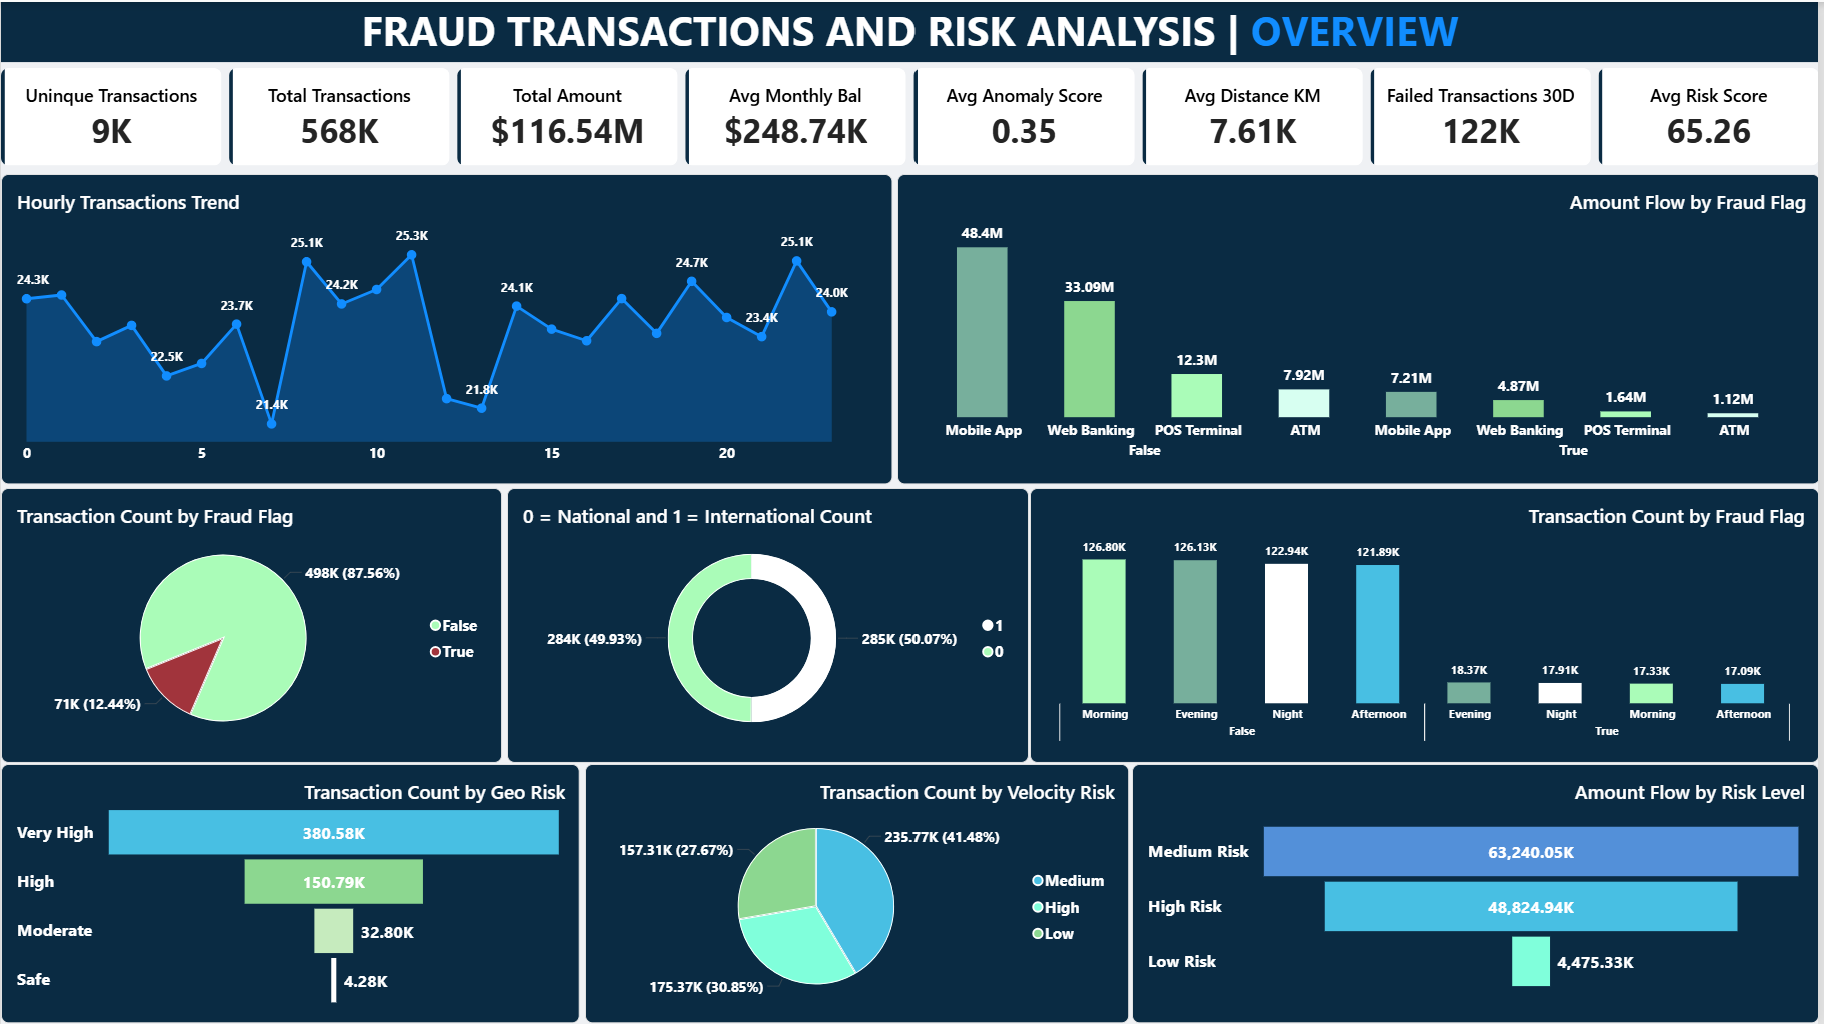

This screenshot's page, from the dashboard's own definition file:
{"tool":"powerbi","page":{"name":"Page 1","canvas":[1920,1080],"ordinal":0},"visuals":[{"type":"textbox","box":[0,0,1921,63.3],"z":0},{"type":"cardVisual","fields":{"Data":["transaction_data.Uninque Transactions","transaction_data.Total Transactions","transaction_data.Total Amount","transaction_data.Avg Monthly Bal","transaction_data.Avg Anomaly Score","transaction_data.Avg Distance KM","transaction_data.Failed Transactions 30D","transaction_data.Avg Risk Score"]},"box":[0,70.3,1921,103.1],"z":1000},{"type":"lineChart","title":"Hourly Transactions Trend","fields":{"Category":["transaction_data.transaction_time_hour"],"Y":["transaction_data.Total Transactions"]},"box":[0,182.7,941.8,328],"z":2000},{"type":"columnChart","title":"Amount Flow by Fraud Flag","fields":{"Y":["transaction_data.Total Amount"],"Category":["transaction_data.fraud_flag","banking_transactions.payment_channel"]},"box":[946.5,182.7,974.6,328],"z":3000},{"type":"pieChart","title":"Transaction Count by Fraud Flag","fields":{"Category":["transaction_data.fraud_flag"],"Y":["transaction_data.Total Transactions"]},"box":[0,513.1,529.5,290.5],"z":4000},{"type":"donutChart","title":"0 = National and 1 = International Count","fields":{"Y":["transaction_data.Total Transactions"],"Category":["transaction_data.international_transaction_flag"]},"box":[534.1,513.1,550.5,290.5],"z":5000},{"type":"clusteredColumnChart","title":"Transaction Count by Fraud Flag","fields":{"Category":["transaction_data.fraud_flag","transaction_data.transaction_period"],"Y":["transaction_data.Total Transactions"]},"box":[1087,513.1,834,290.5],"z":6000},{"type":"funnel","title":"Transaction Count by Geo Risk","fields":{"Category":["transaction_data.geo_risk"],"Y":["transaction_data.Total Transactions"]},"box":[0,805.9,611.5,274.1],"z":7000},{"type":"pieChart","title":"Transaction Count by Velocity Risk","fields":{"Category":["transaction_data.velocity_risk"],"Y":["transaction_data.Total Transactions"]},"box":[616.1,805.9,574,274.1],"z":8000},{"type":"funnel","title":"Amount Flow by Risk Level","fields":{"Category":["transaction_data.risk_level"],"Y":["transaction_data.Total Amount"]},"box":[1194.8,805.9,726.2,274.1],"z":9000}]}

Visuals, with their boxes in screenshot pixels (x1, y1, x2, y2), scaled from the page's 1920x1080 canvas onto the 1824x1024 screenshot:
textbox: <bbox>0, 0, 1823, 60</bbox>
cardVisual - transaction_data.Uninque Transactions x transaction_data.Total Transactions: <bbox>0, 67, 1823, 164</bbox>
"Hourly Transactions Trend" lineChart: <bbox>0, 173, 895, 484</bbox>
"Amount Flow by Fraud Flag" columnChart: <bbox>899, 173, 1823, 484</bbox>
"Transaction Count by Fraud Flag" pieChart: <bbox>0, 486, 503, 762</bbox>
"0 = National and 1 = International Count" donutChart: <bbox>507, 486, 1030, 762</bbox>
"Transaction Count by Fraud Flag" clusteredColumnChart: <bbox>1033, 486, 1823, 762</bbox>
"Transaction Count by Geo Risk" funnel: <bbox>0, 764, 581, 1023</bbox>
"Transaction Count by Velocity Risk" pieChart: <bbox>585, 764, 1131, 1023</bbox>
"Amount Flow by Risk Level" funnel: <bbox>1135, 764, 1823, 1023</bbox>
